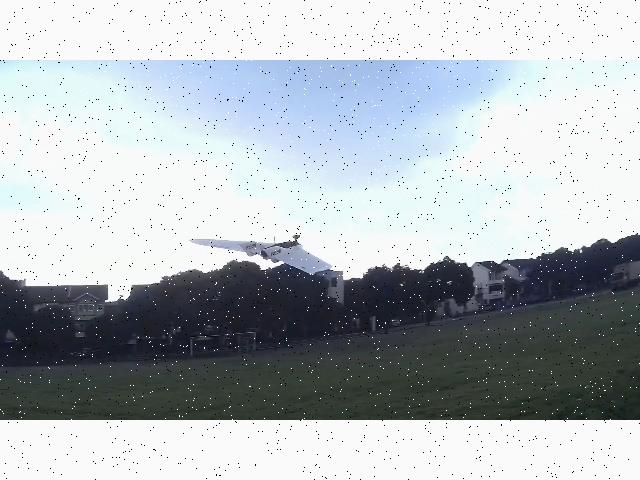Anti-Drone: (189, 236, 333, 274)
